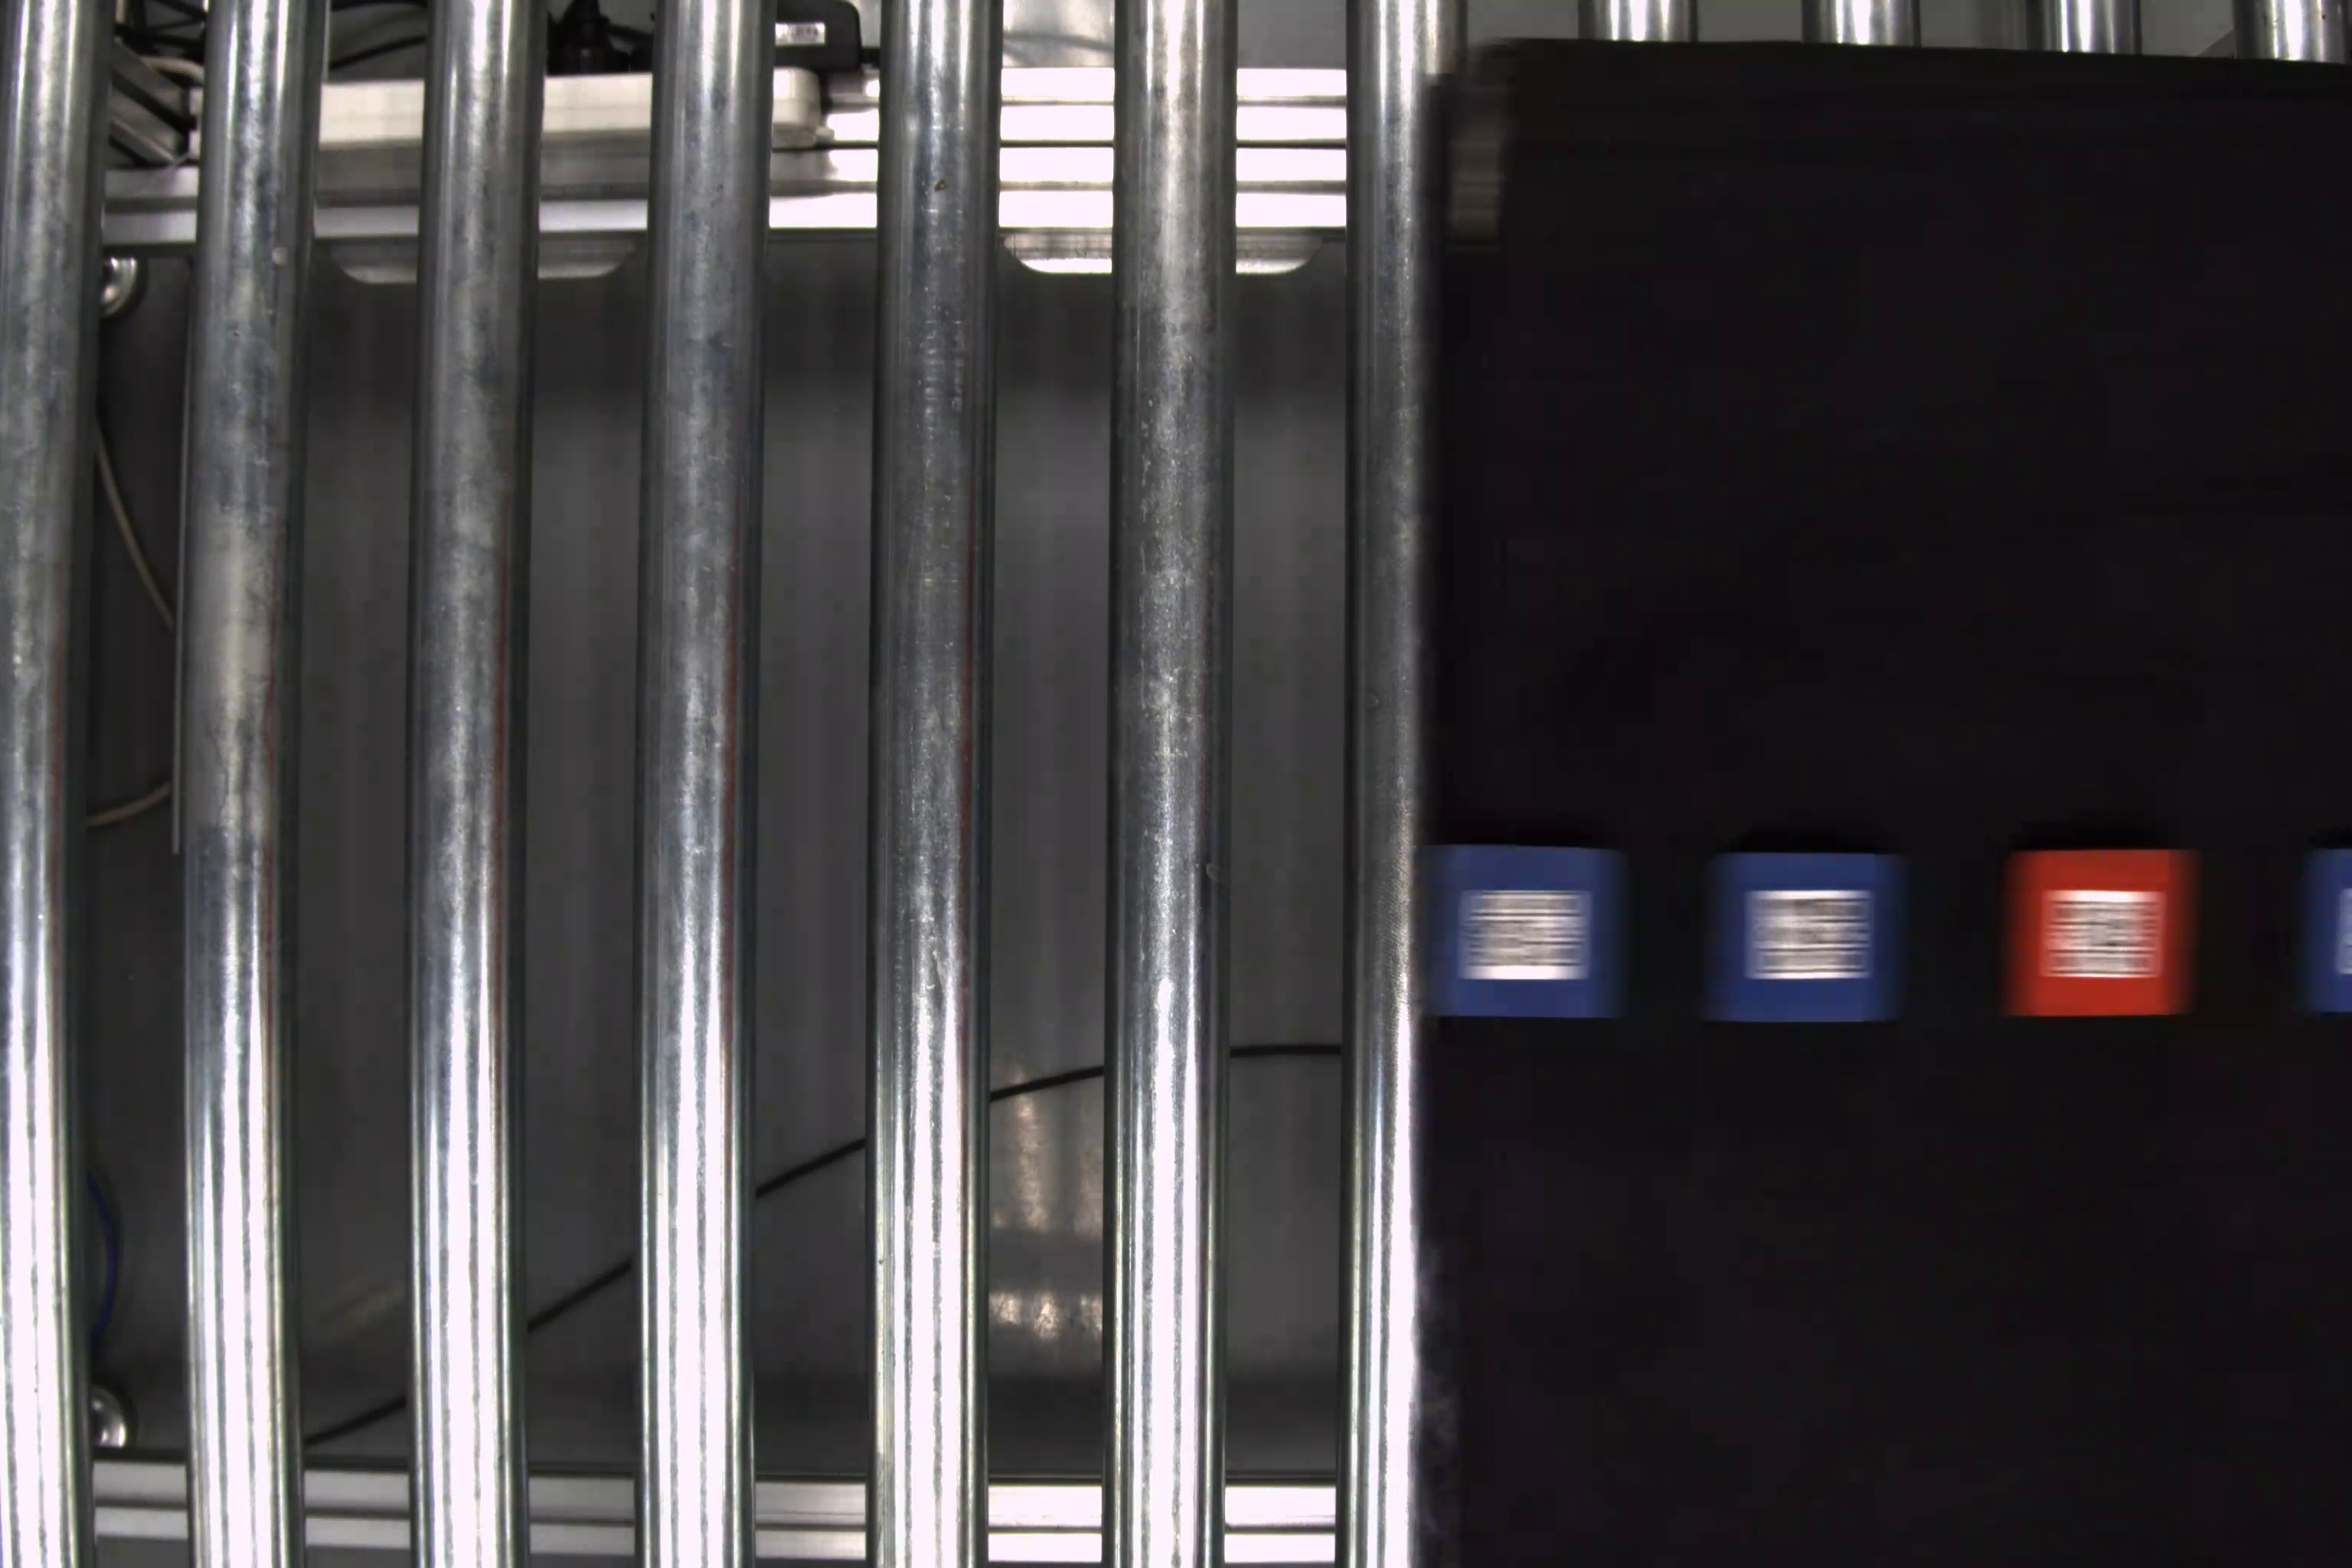wood: (1421, 842, 1636, 1018), (1708, 849, 1916, 1029), (1998, 849, 2201, 1017), (2306, 845, 2352, 1018)
